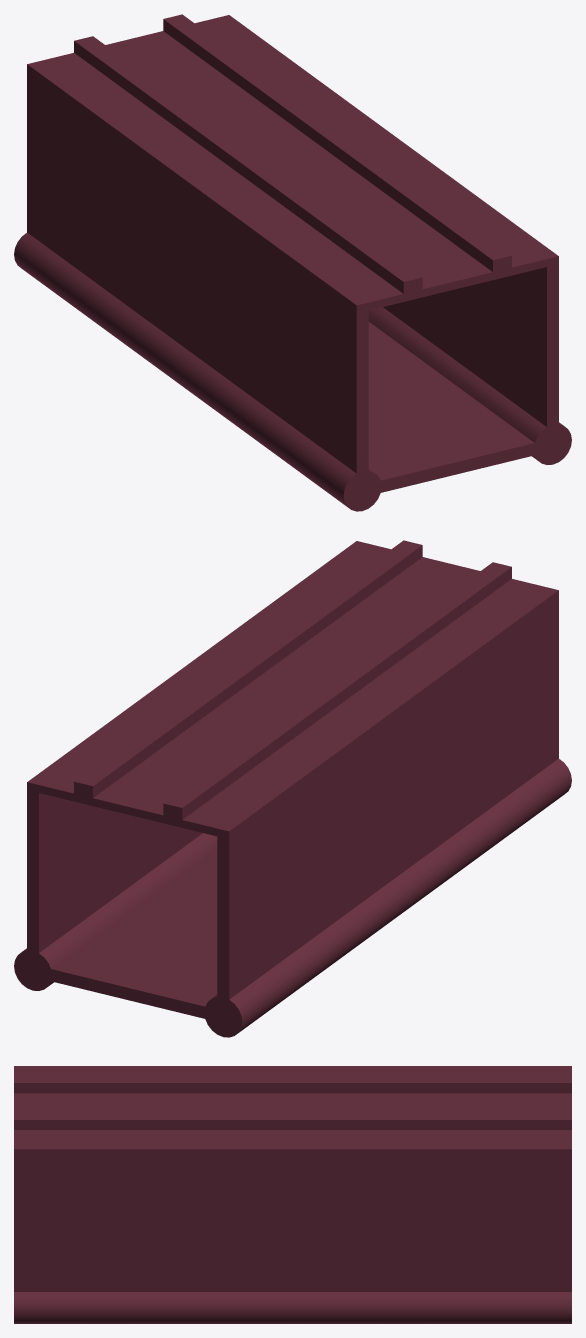
The model's file is Vagon_003.fbx.
The picture shows the model from 3 angles, top to bottom: view 1: azimuth 30°, elevation 25°; view 2: azimuth 150°, elevation 25°; view 3: azimuth 270°, elevation 25°; orthographic projection. The views are drawn at different scales.
Visible parts, largest first — view 1: Vagon_03; view 2: Vagon_03; view 3: Vagon_03.
Part boxes in pixels (left/top/right/bottom): Vagon_03: left=14, top=14, right=571, bottom=511; Vagon_03: left=14, top=540, right=571, bottom=1037; Vagon_03: left=14, top=1066, right=571, bottom=1323.
Bounding box in the file's own units: 1200 × 1100 × 3000.
